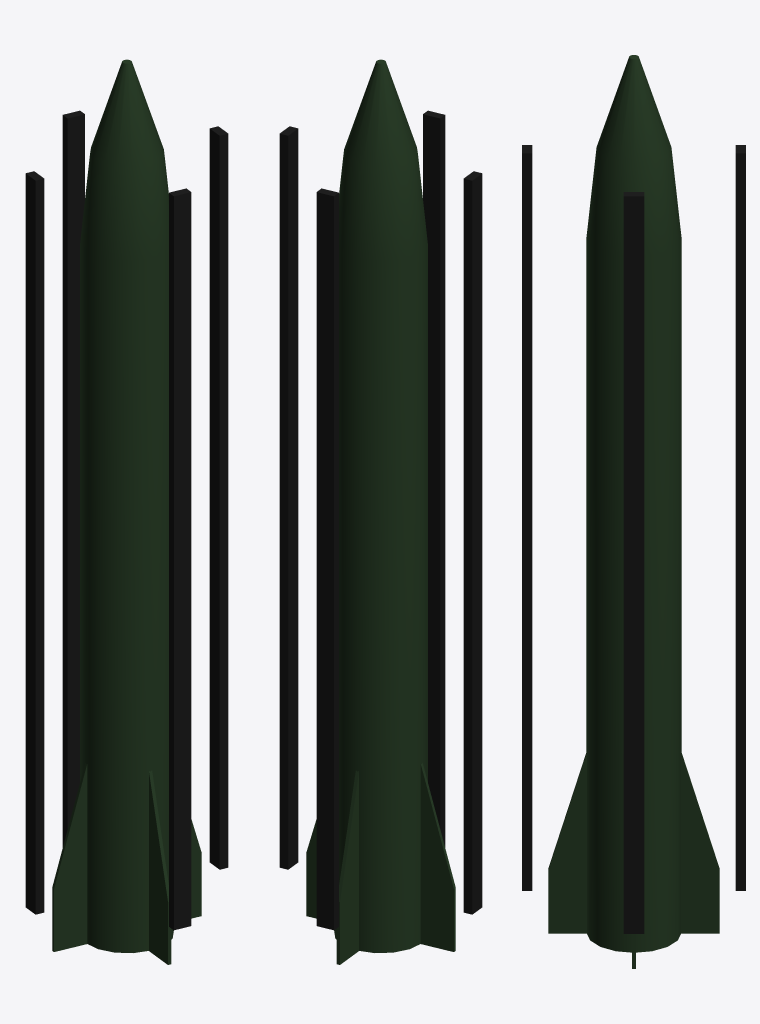
File: Wea_HuoJianDan_1X5_off.FBX
3 views of the same model, side by side, from view 1: azimuth 30°, elevation 25°; view 2: azimuth 150°, elevation 25°; view 3: azimuth 270°, elevation 25° (orthographic).
Parts seen in each view (by area): view 1: Box002; view 2: Box002; view 3: Box002.
Part boxes in pixels (x1,y1,x2,y2): Box002: [25, 59, 228, 964]; Box002: [279, 59, 482, 964]; Box002: [522, 55, 745, 968].
Size of the model in its own units: 1.1 by 5 by 1.1.
